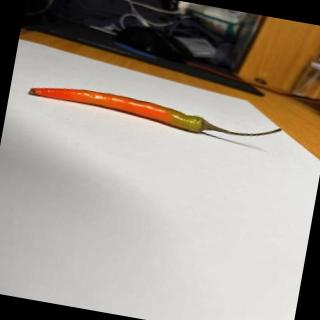Cabai Merah: (26, 80, 284, 148)
